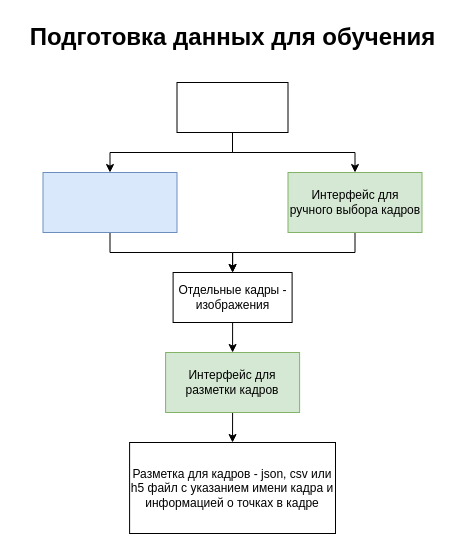
Some shapes in this 464 by 551 pixel diagram are drawn without their labels. The shapes that lost their labels are listed below. From the top down, each one's box as (x1, y1, x2, y2) in pixels, then its label:
(176, 82, 288, 132): Видео
(42, 172, 177, 232): Модуль автоматической выборки кадров
